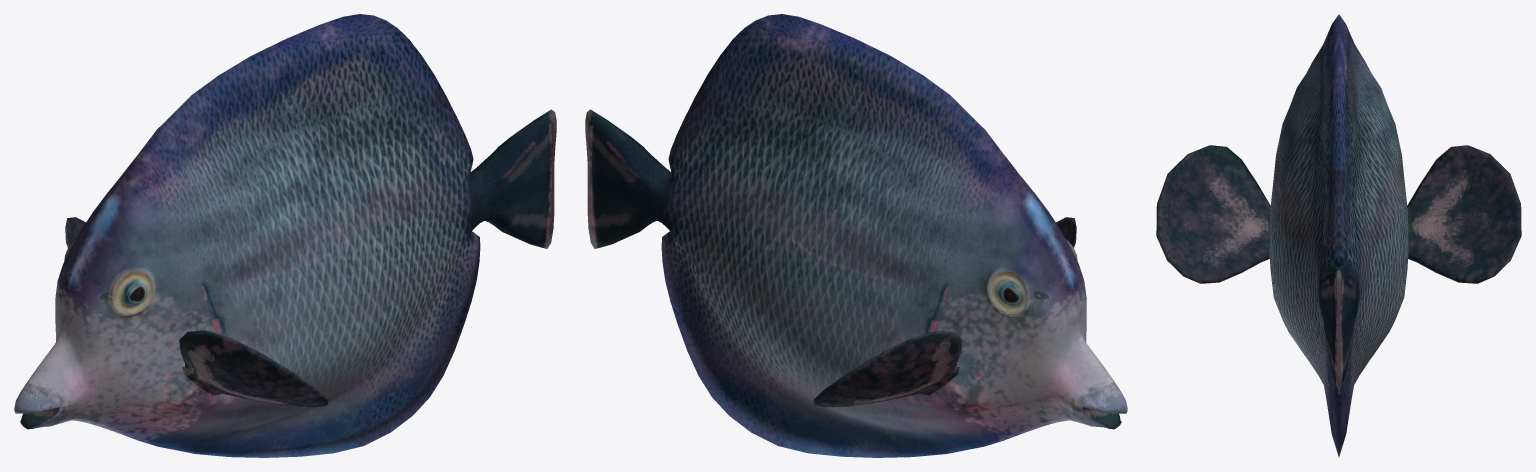
File: blue_angelfish.glb
The picture shows the model from 3 angles, left to right: view 1: azimuth 30°, elevation 25°; view 2: azimuth 150°, elevation 25°; view 3: azimuth 270°, elevation 25°; orthographic projection. The views are drawn at different scales.
Parts seen in each view (by area): view 1: Fish; view 2: Fish; view 3: Fish.
Part boxes in pixels (bbox=[...]): Fish: bbox=[14, 14, 556, 457]; Fish: bbox=[585, 14, 1127, 457]; Fish: bbox=[1156, 14, 1521, 456].
Size of the model in its own units: 2215 by 1695 by 1406.
1 material, 1 textured.
